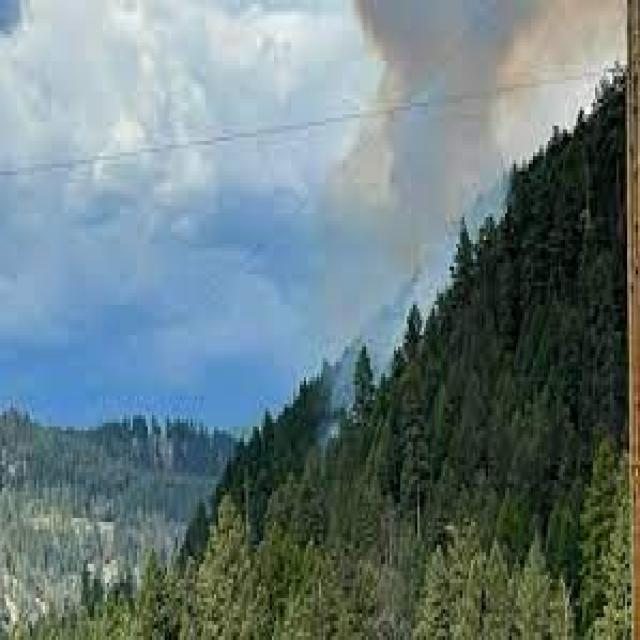Smoke: (352, 0, 512, 222), (336, 219, 458, 411)
